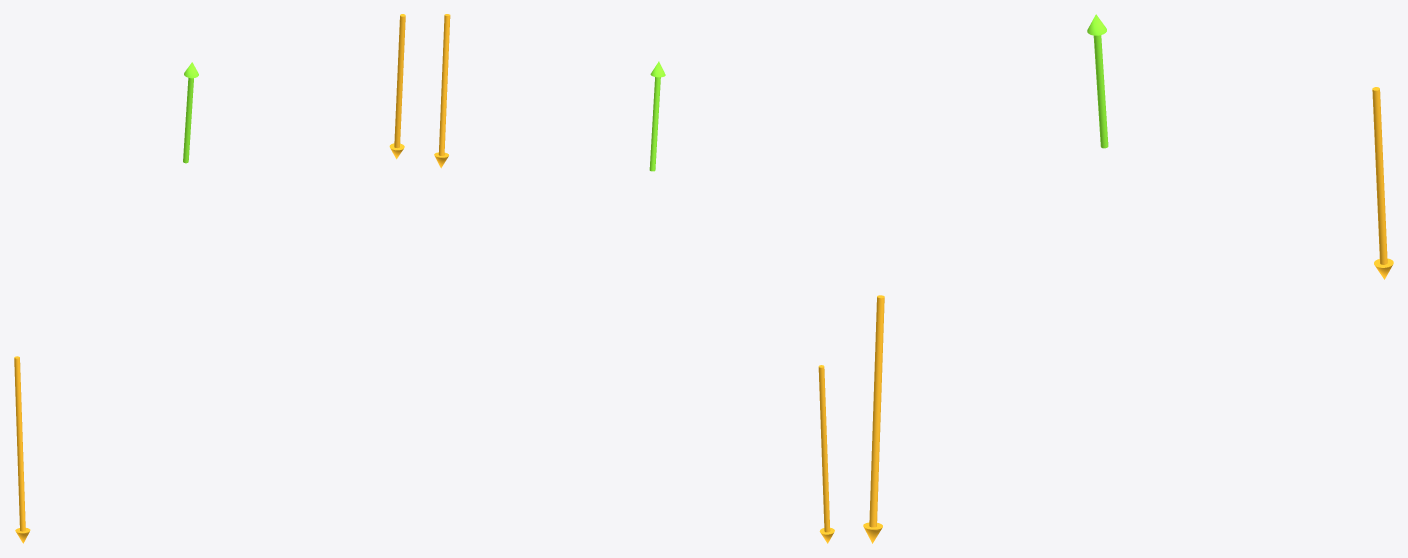
File: lpg_storage_bullet_flow.glb
3 views of the same model, side by side, from view 1: azimuth 30°, elevation 25°; view 2: azimuth 150°, elevation 25°; view 3: azimuth 330°, elevation 25° (orthographic). The views are drawn at different scales.
Parts seen in each view (by area): view 1: liquid_out, fill, vapour_balance; view 2: liquid_out, fill, vapour_balance; view 3: liquid_out, fill, vapour_balance.
Boxes of the visible parts, bbox=[...] form: liquid_out: bbox=[14, 356, 30, 543]; fill: bbox=[389, 14, 405, 159]; vapour_balance: bbox=[183, 62, 198, 163]; liquid_out: bbox=[818, 365, 834, 543]; fill: bbox=[434, 14, 450, 168]; vapour_balance: bbox=[649, 61, 665, 171]; liquid_out: bbox=[863, 295, 884, 543]; fill: bbox=[1372, 87, 1393, 279]; vapour_balance: bbox=[1087, 14, 1108, 148].
Size of the model in its own units: 1.86 by 2 by 0.1072.
